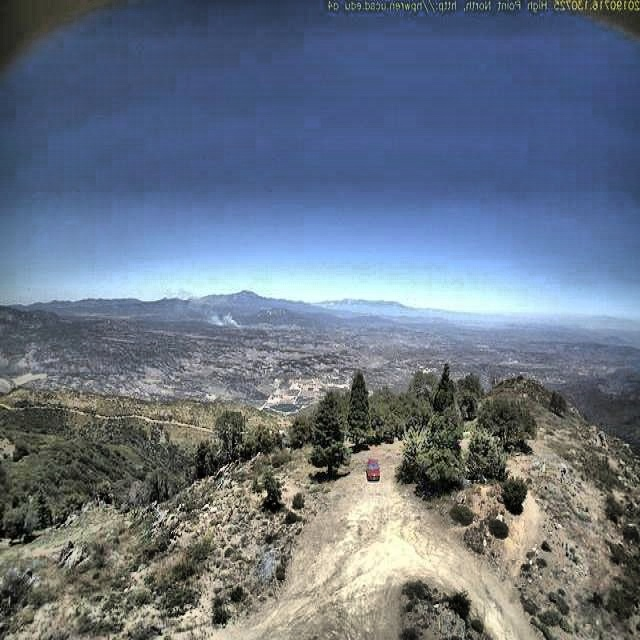smoke: (194, 304, 248, 332)
